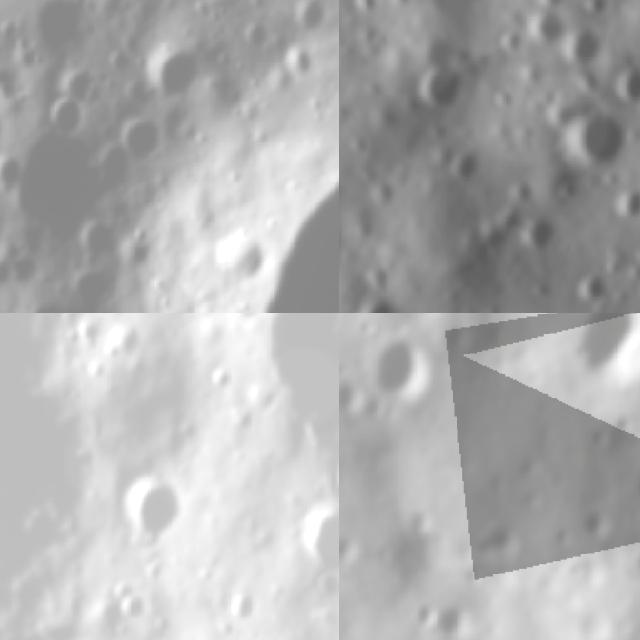crater: (104, 2, 339, 313), (253, 313, 339, 460), (550, 96, 640, 185), (394, 44, 478, 129), (550, 313, 640, 392), (111, 466, 186, 555), (373, 324, 444, 404), (22, 0, 89, 72), (142, 32, 209, 102), (529, 82, 589, 142), (299, 505, 339, 594), (466, 516, 537, 566), (85, 143, 141, 203), (115, 107, 169, 169), (508, 203, 567, 258), (563, 258, 621, 313), (519, 3, 571, 55), (441, 141, 492, 193), (346, 278, 415, 313), (601, 175, 640, 232), (48, 96, 92, 144), (487, 21, 534, 63), (578, 500, 622, 544), (103, 322, 148, 362), (399, 505, 442, 542), (407, 592, 442, 633), (339, 376, 372, 419), (203, 365, 235, 405), (226, 588, 260, 625), (118, 590, 153, 625), (524, 0, 577, 20), (339, 529, 365, 568), (576, 0, 616, 25), (0, 104, 11, 153)
